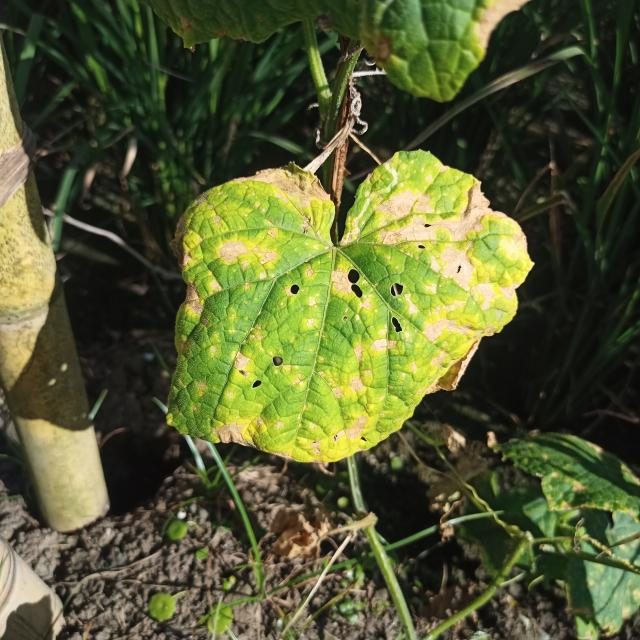disease_cucumber: (170, 157, 532, 467)
